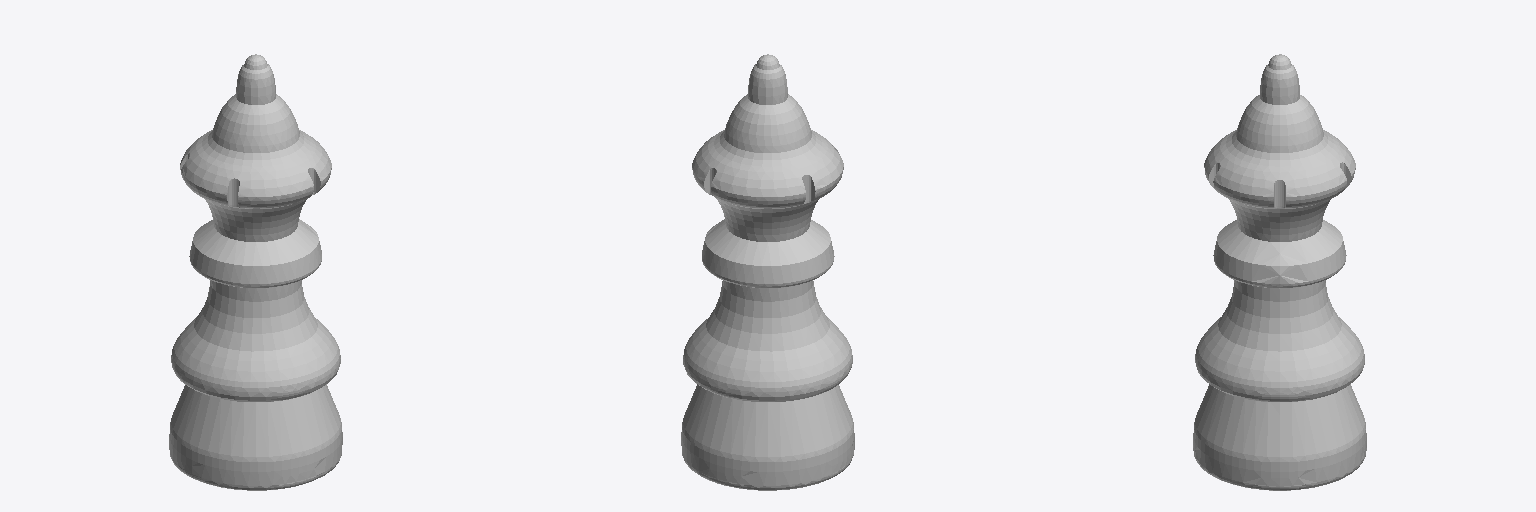
File: whiteQueen.obj
3 renders of one model, left to right at view 1: azimuth 30°, elevation 25°; view 2: azimuth 150°, elevation 25°; view 3: azimuth 270°, elevation 25°, orthographic.
Visible parts, largest first — view 1: Obj_000013; view 2: Obj_000013; view 3: Obj_000013.
Part boxes in pixels (left/top/right/bottom): Obj_000013: left=169, top=54, right=342, bottom=490; Obj_000013: left=681, top=54, right=854, bottom=490; Obj_000013: left=1193, top=54, right=1366, bottom=490.
Bounding box in the file's own units: 3.62 × 9.23 × 3.62.